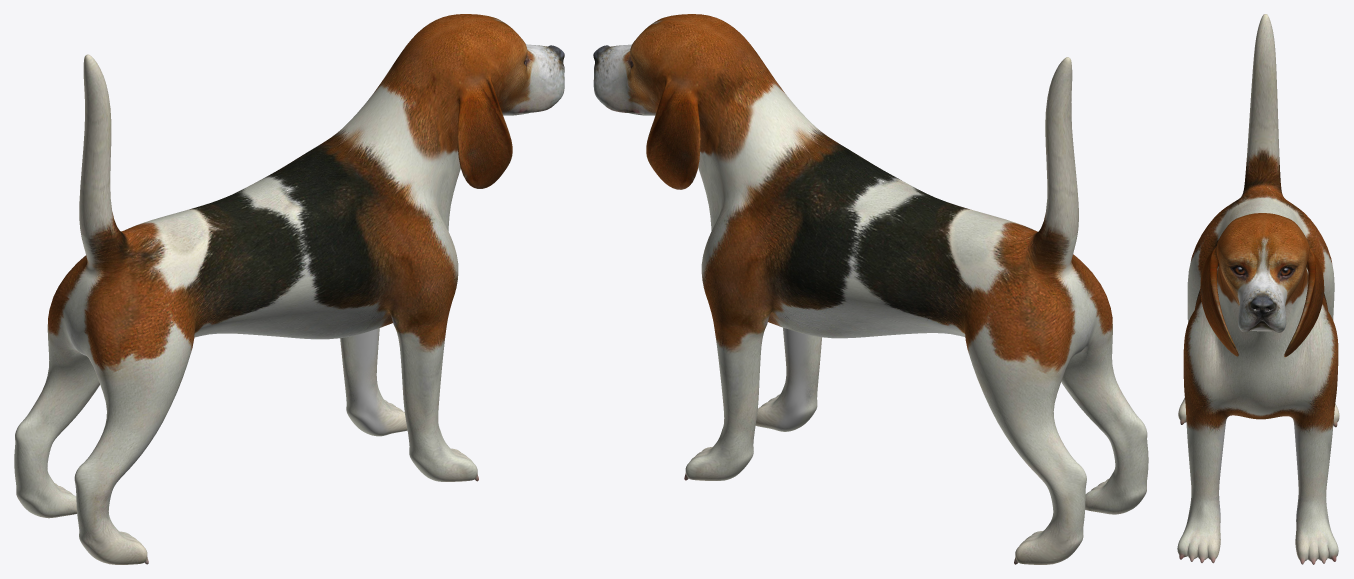
File: beagle.obj
3 views of the same model, side by side, from view 1: azimuth 30°, elevation 25°; view 2: azimuth 150°, elevation 25°; view 3: azimuth 270°, elevation 25° (orthographic). The views are drawn at different scales.
Visible parts, largest first — view 1: beagle.002; view 2: beagle.002; view 3: beagle.002.
Boxes of the visible parts, box(x1,y1,x2,y2) form: beagle.002: box(14, 14, 564, 564); beagle.002: box(593, 14, 1148, 564); beagle.002: box(1177, 14, 1339, 564).
Bounding box in the file's own units: 26.34 × 23.24 × 8.34.
Materials: 1 (1 with a texture image).
